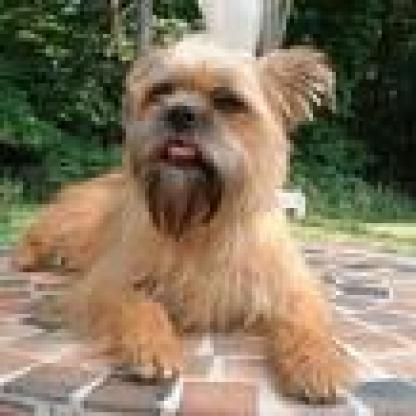affenpinscher: (0, 0, 374, 408)
